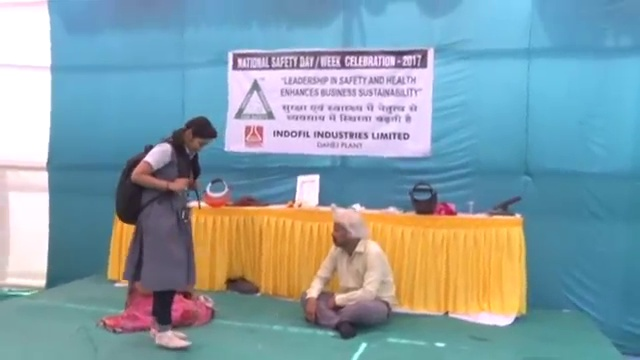helmet_off: (329, 209, 365, 253), (179, 117, 217, 156)
person: (112, 117, 218, 353), (299, 209, 396, 340)
